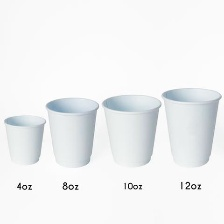paper_cup: (157, 83, 224, 171), (98, 91, 162, 171), (39, 93, 102, 170), (1, 111, 48, 169)
